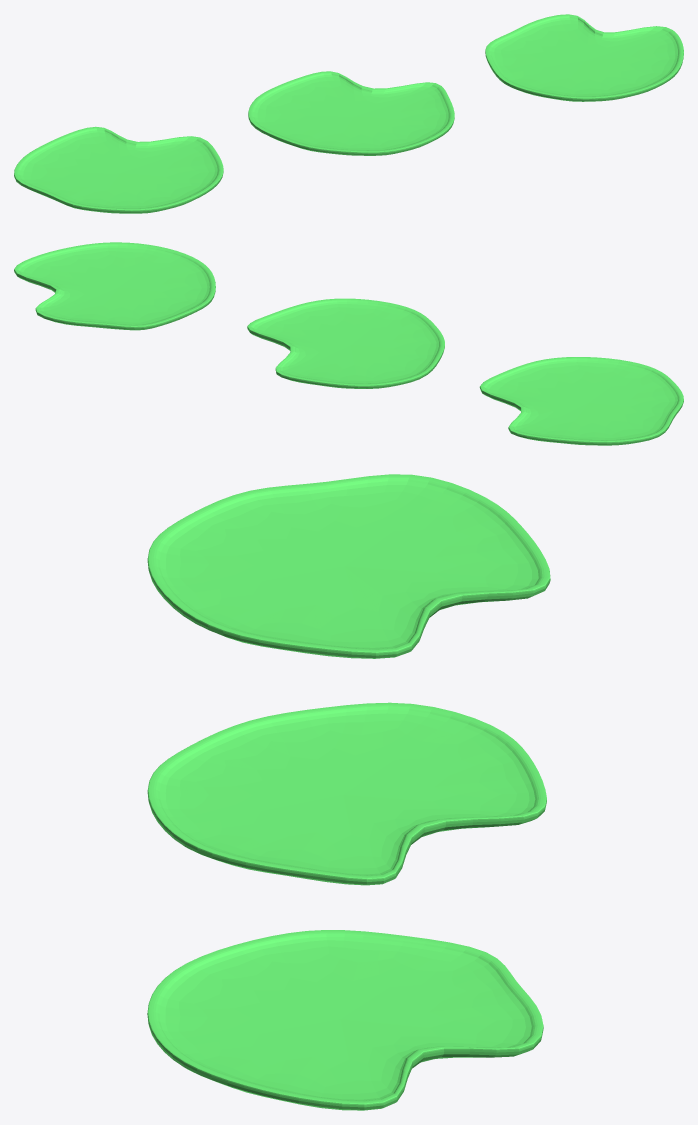
File: lilly_pad_game.fbx
3 views of the same model, one above another, from view 1: azimuth 30°, elevation 25°; view 2: azimuth 150°, elevation 25°; view 3: azimuth 270°, elevation 25° (orthographic). The views are drawn at different scales.
Parts seen in each view (by area): view 1: Circle.003, Circle.001, Circle.002; view 2: Circle.003, Circle.002, Circle.001; view 3: Circle.003, Circle.001, Circle.002.
Boxes of the visible parts, <box> form: Circle.003: <box>14,126,223,213</box>; Circle.001: <box>248,71,454,155</box>; Circle.002: <box>485,14,683,101</box>; Circle.003: <box>479,357,683,445</box>; Circle.002: <box>14,242,215,330</box>; Circle.001: <box>247,298,444,388</box>; Circle.003: <box>147,474,550,658</box>; Circle.001: <box>147,702,546,885</box>; Circle.002: <box>147,930,543,1110</box>.
Bounding box in the file's own units: 733 × 10.39 × 198.
